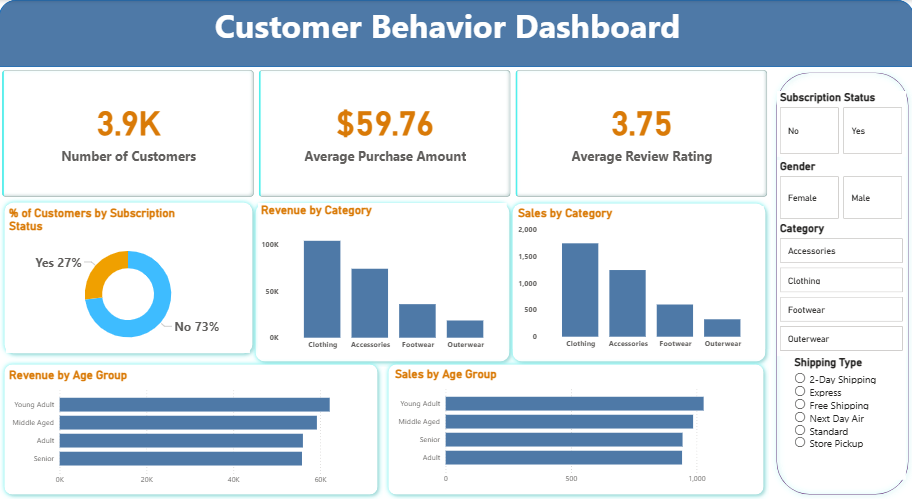

What the dashboard file says about the page in this screenshot:
{"tool":"powerbi","page":{"name":"Page 1","canvas":[1500,820],"ordinal":0},"visuals":[{"type":"cardVisual","fields":{"Data":["public customer.Number of Customers","public customer.Average Purchase Amount","public customer.Average Review Rating"]},"box":[0,109.9,1266.1,218.1],"z":0},{"type":"shape","box":[0,0,1500.6,109.9],"z":1000},{"type":"textbox","box":[0,0,1471.1,109.9],"z":2000},{"type":"shape","box":[0,323.1,424.8,265.7],"z":3000,"group":"g1"},{"type":"shape","box":[411.6,324.7,434.6,277.2],"z":3000},{"type":"donutChart","title":"% of Customers by Subscription Status","fields":{"Category":["public customer.subscription_status"],"Y":["CountNonNull(public customer.customer_id)"]},"box":[11.5,337.7,400.2,241.1],"z":4000,"group":"g1"},{"type":"group","id":"g1","title":"Group 1","box":[0,323.1,424.8,265.7],"z":4000},{"type":"shape","box":[833.1,324.7,433,277.2],"z":5000},{"type":"clusteredColumnChart","title":"Revenue by Category","fields":{"Y":["Sum(public customer.purchase_amount)"],"Category":["public customer.category"]},"box":[424.8,332.9,408.4,250.9],"z":6000},{"type":"clusteredColumnChart","title":"Sales by Category","fields":{"Category":["public customer.category"],"Y":["CountNonNull(public customer.customer_id)"]},"box":[846.2,337.8,408.4,244.4],"z":7000},{"type":"shape","box":[1266.1,109.9,234.5,710.1],"z":8000},{"type":"advancedSlicerVisual","title":"Subscription Status","fields":{"Values":["public customer.subscription_status"]},"box":[1275.9,149.2,211.6,108.2],"z":9000},{"type":"advancedSlicerVisual","title":"Gender","fields":{"Values":["public customer.gender"]},"box":[1275.9,262.4,211.6,101.7],"z":10000},{"type":"advancedSlicerVisual","title":"Category","fields":{"Values":["public customer.category"]},"box":[1275.9,364.1,211.6,219.8],"z":11000},{"type":"listSlicer","title":"Shipping Type","fields":{"Values":["public customer.shipping_type"]},"box":[1292.3,583.8,195.2,203.4],"z":12000},{"type":"clusteredBarChart","title":"Revenue by Age Group","fields":{"Y":["Sum(public customer.purchase_amount)"],"Category":["public customer.age_group"]},"box":[11.5,601.9,601.9,201.7],"z":13000},{"type":"shape","box":[0,588.8,629.8,231.2],"z":14000},{"type":"shape","box":[629.8,588.8,633,231.2],"z":15000},{"type":"clusteredBarChart","title":"Revenue by Age Group","fields":{"Y":["Sum(public customer.purchase_amount)"],"Category":["public customer.age_group"]},"box":[11.5,603.5,601.9,201.7],"z":16000},{"type":"clusteredBarChart","title":"Sales by Age Group","fields":{"Y":["CountNonNull(public customer.customer_id)"],"Category":["public customer.age_group"]},"box":[644.5,601.9,601.9,201.7],"z":17000}]}

Visuals, with their boxes in screenshot pixels (x1, y1, x2, y2), scaled from the page's 1500x820 canvas onto the 912x499 screenshot:
cardVisual - public customer.Number of Customers x public customer.Average Purchase Amount: box=[0, 67, 770, 200]
shape: box=[0, 0, 911, 67]
textbox: box=[0, 0, 894, 67]
shape: box=[0, 197, 258, 358]
shape: box=[250, 198, 514, 366]
"% of Customers by Subscription Status" donutChart: box=[7, 206, 250, 352]
"Group 1" group: box=[0, 197, 258, 358]
shape: box=[507, 198, 770, 366]
"Revenue by Category" clusteredColumnChart: box=[258, 203, 507, 355]
"Sales by Category" clusteredColumnChart: box=[514, 206, 763, 354]
shape: box=[770, 67, 911, 498]
"Subscription Status" advancedSlicerVisual: box=[776, 91, 904, 157]
"Gender" advancedSlicerVisual: box=[776, 160, 904, 222]
"Category" advancedSlicerVisual: box=[776, 222, 904, 355]
"Shipping Type" listSlicer: box=[786, 355, 904, 479]
"Revenue by Age Group" clusteredBarChart: box=[7, 366, 373, 489]
shape: box=[0, 358, 383, 498]
shape: box=[383, 358, 768, 498]
"Revenue by Age Group" clusteredBarChart: box=[7, 367, 373, 490]
"Sales by Age Group" clusteredBarChart: box=[392, 366, 758, 489]
